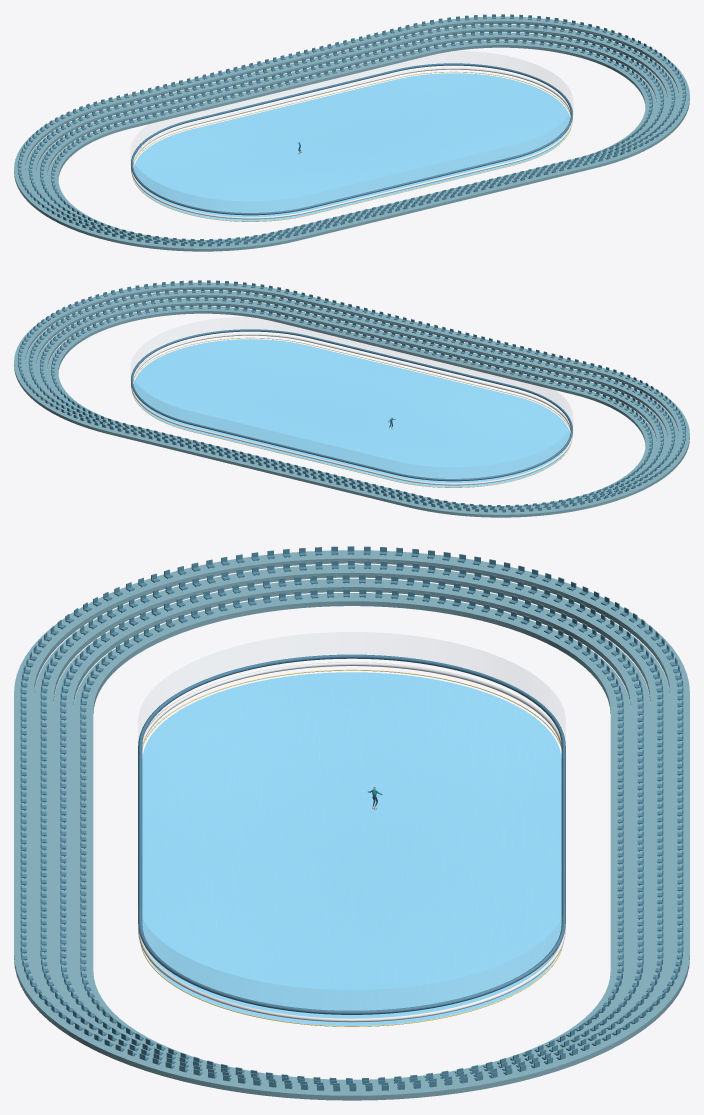
File: 1S-edge-study-r6.glb
The picture shows the model from 3 angles, top to bottom: view 1: azimuth 30°, elevation 25°; view 2: azimuth 150°, elevation 25°; view 3: azimuth 270°, elevation 25°; orthographic projection. The views are drawn at different scales.
Visible parts, largest first — view 1: V23 capsule ice · 60 m × 30 m (30 m straights + semicircles), V23 · continuous capsule tier 4, V23 · continuous capsule tier 3, V23 · continuous capsule tier 1, V23 · continuous capsule tier 2, V23 · empty seat row 4 · 204 seats, V23 · empty seat row 3 · 196 seats, V23 · empty seat row 2 · 189 seats, V23 · empty seat row 1 · 181 seats, V23 continuous capsule top cap, V23 continuous capsule boards, V23 continuous capsule kick plate; view 2: V23 capsule ice · 60 m × 30 m (30 m straights + semicircles), V23 · continuous capsule tier 4, V23 · continuous capsule tier 3, V23 · continuous capsule tier 2, V23 · continuous capsule tier 1, V23 · empty seat row 4 · 204 seats, V23 · empty seat row 3 · 196 seats, V23 · empty seat row 2 · 189 seats, V23 · empty seat row 1 · 181 seats, V23 continuous capsule top cap, V23 continuous capsule boards, V23 continuous capsule kick plate; view 3: V23 capsule ice · 60 m × 30 m (30 m straights + semicircles), V23 · continuous capsule tier 4, V23 · continuous capsule tier 3, V23 · continuous capsule tier 2, V23 · continuous capsule tier 1, V23 · empty seat row 4 · 204 seats, V23 · empty seat row 3 · 196 seats, V23 · empty seat row 2 · 189 seats, V23 · empty seat row 1 · 181 seats, V23 continuous capsule top cap, V23 continuous capsule boards, V23 continuous capsule kick plate.
Part boxes in pixels (left/top/right/bottom): V23 capsule ice · 60 m × 30 m (30 m straights + semicircles): left=133, top=73, right=570, bottom=221; V23 · continuous capsule tier 4: left=14, top=16, right=689, bottom=251; V23 · continuous capsule tier 3: left=25, top=24, right=678, bottom=244; V23 · continuous capsule tier 1: left=47, top=40, right=656, bottom=241; V23 · continuous capsule tier 2: left=36, top=32, right=667, bottom=242; V23 · empty seat row 4 · 204 seats: left=17, top=14, right=686, bottom=246; V23 · empty seat row 3 · 196 seats: left=28, top=22, right=675, bottom=244; V23 · empty seat row 2 · 189 seats: left=40, top=30, right=663, bottom=242; V23 · empty seat row 1 · 181 seats: left=51, top=38, right=652, bottom=241; V23 continuous capsule top cap: left=131, top=63, right=572, bottom=215; V23 continuous capsule boards: left=131, top=67, right=572, bottom=219; V23 continuous capsule kick plate: left=132, top=71, right=571, bottom=221; V23 capsule ice · 60 m × 30 m (30 m straights + semicircles): left=133, top=339, right=570, bottom=487; V23 · continuous capsule tier 4: left=14, top=282, right=689, bottom=517; V23 · continuous capsule tier 3: left=25, top=290, right=678, bottom=510; V23 · continuous capsule tier 2: left=36, top=298, right=667, bottom=508; V23 · continuous capsule tier 1: left=47, top=306, right=656, bottom=507; V23 · empty seat row 4 · 204 seats: left=18, top=280, right=685, bottom=512; V23 · empty seat row 3 · 196 seats: left=28, top=288, right=675, bottom=510; V23 · empty seat row 2 · 189 seats: left=40, top=296, right=663, bottom=508; V23 · empty seat row 1 · 181 seats: left=51, top=304, right=652, bottom=507; V23 continuous capsule top cap: left=131, top=329, right=572, bottom=481; V23 continuous capsule boards: left=131, top=333, right=572, bottom=485; V23 continuous capsule kick plate: left=132, top=337, right=571, bottom=487; V23 capsule ice · 60 m × 30 m (30 m straights + semicircles): left=142, top=672, right=561, bottom=1025; V23 · continuous capsule tier 4: left=14, top=550, right=689, bottom=1100; V23 · continuous capsule tier 3: left=34, top=564, right=669, bottom=1087; V23 · continuous capsule tier 2: left=53, top=578, right=650, bottom=1084; V23 · continuous capsule tier 1: left=73, top=593, right=630, bottom=1082; V23 · empty seat row 4 · 204 seats: left=20, top=546, right=683, bottom=1091; V23 · empty seat row 3 · 196 seats: left=40, top=560, right=663, bottom=1087; V23 · empty seat row 2 · 189 seats: left=60, top=575, right=643, bottom=1084; V23 · empty seat row 1 · 181 seats: left=80, top=589, right=623, bottom=1081; V23 continuous capsule top cap: left=138, top=654, right=565, bottom=1014; V23 continuous capsule boards: left=138, top=662, right=565, bottom=1022; V23 continuous capsule kick plate: left=140, top=669, right=563, bottom=1026.
Bounding box in the file's own units: 92.36 × 3.04 × 48.36.
23 materials, 1 textured.
